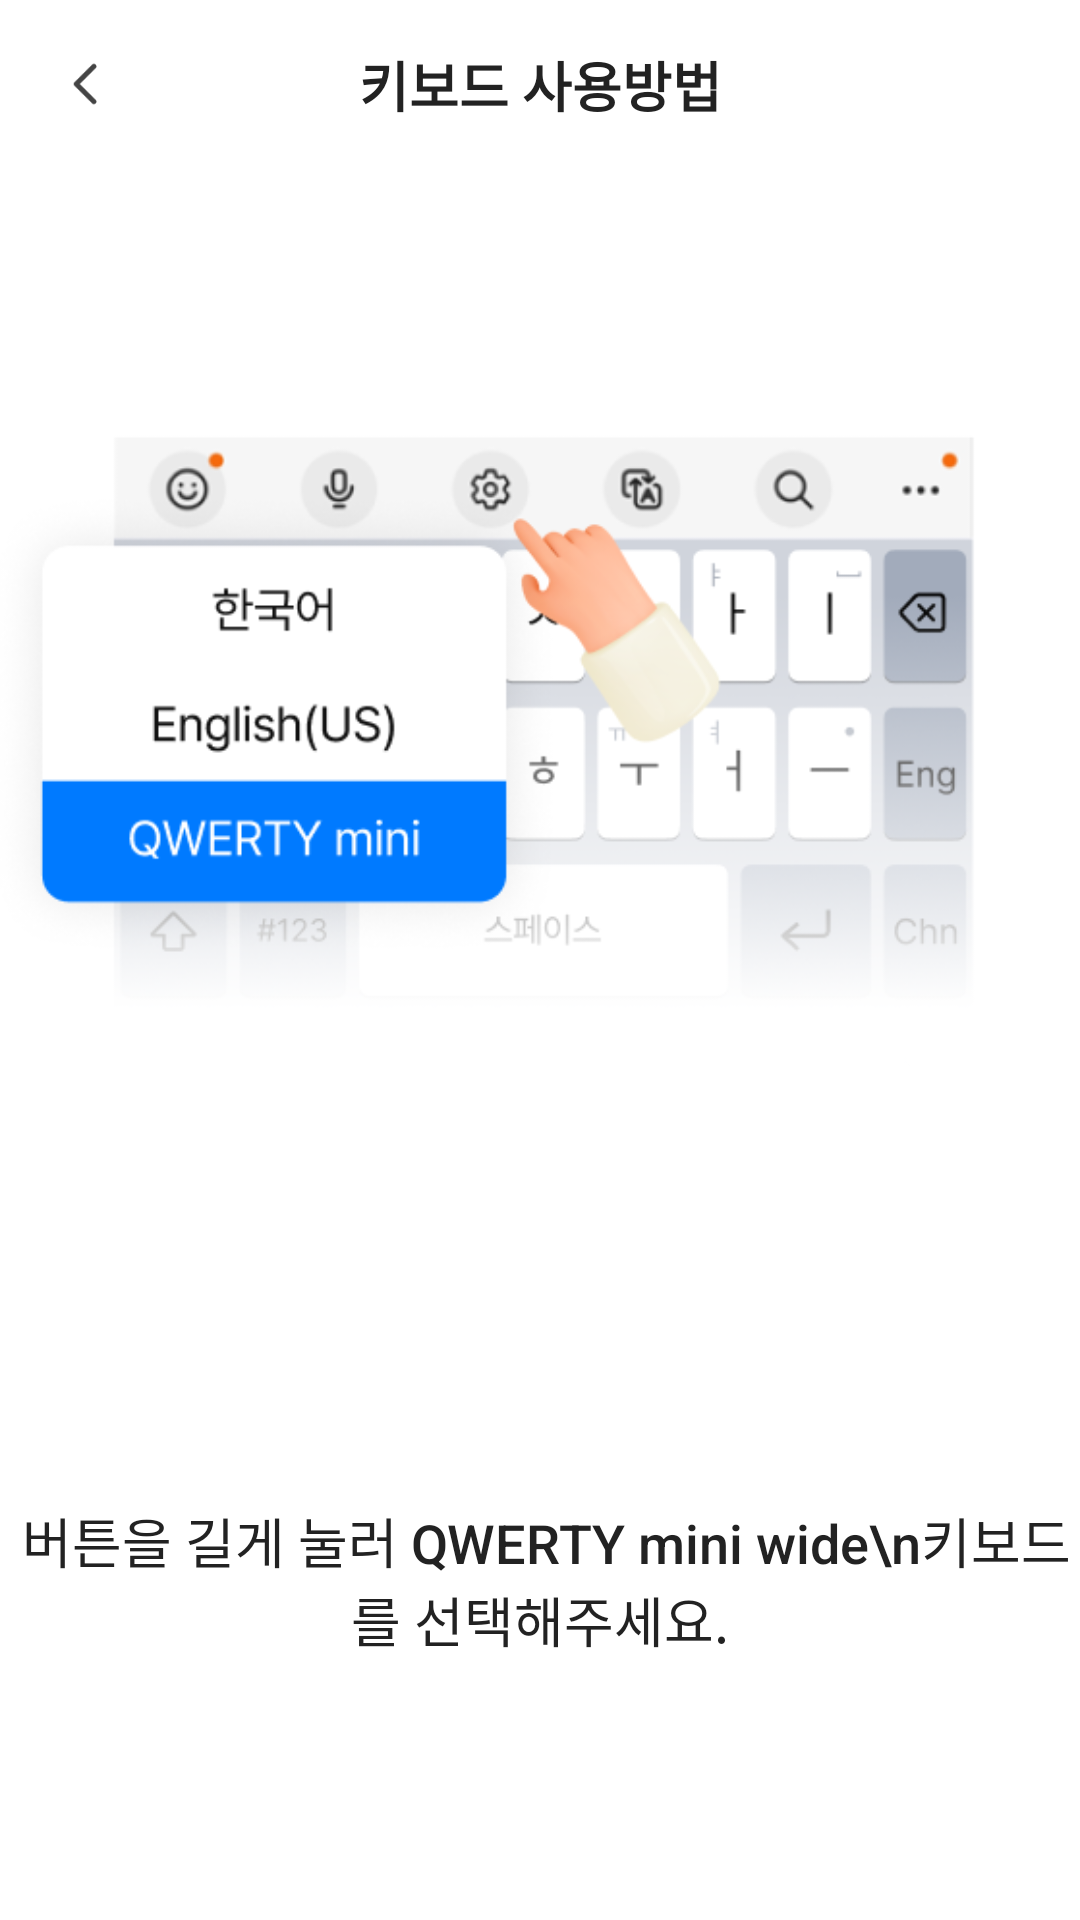

Screen size 1080×1920. Icon name, then its center in pixels as (x=x, y=y):
뒤로가기: (x=85, y=84)
